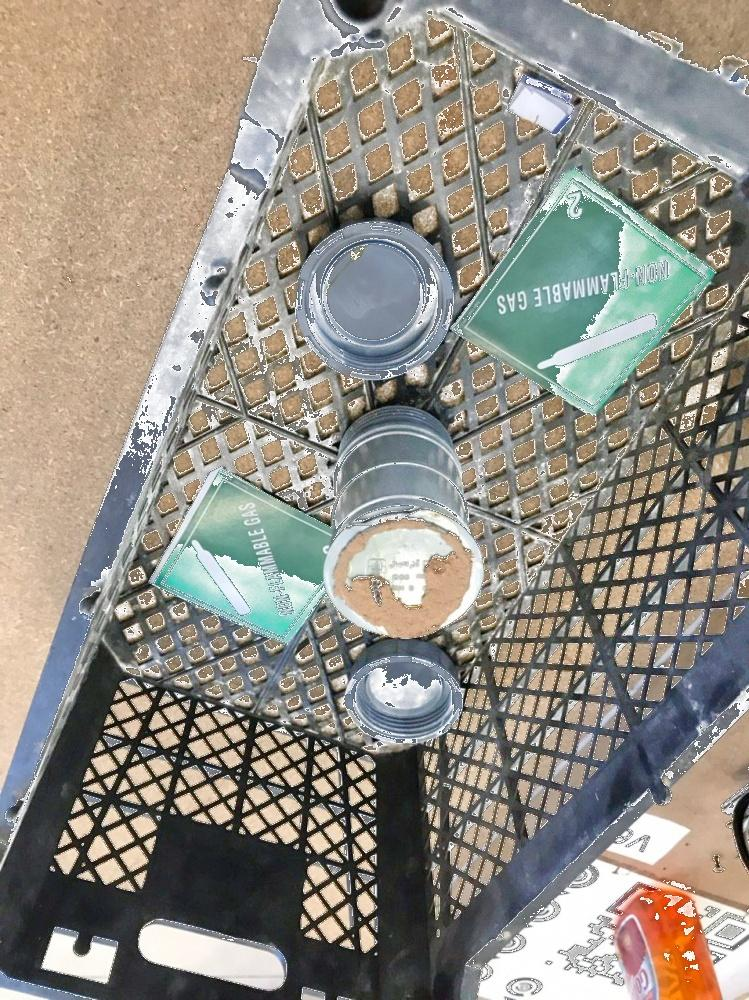non-flammable-gas: (451, 170, 714, 412), (149, 465, 343, 647)
